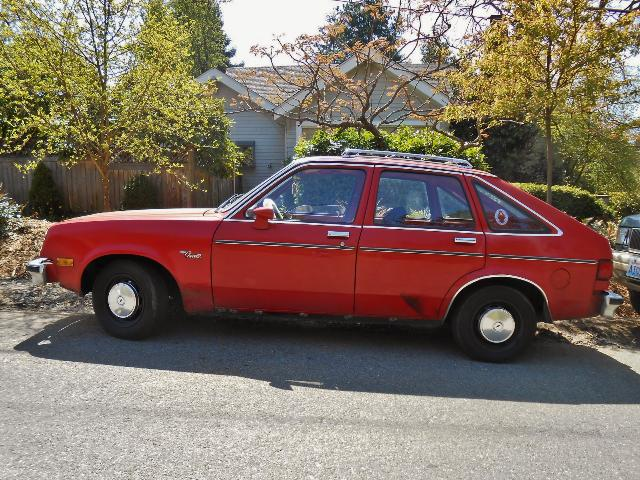chevette-1983: (28, 152, 620, 362)
